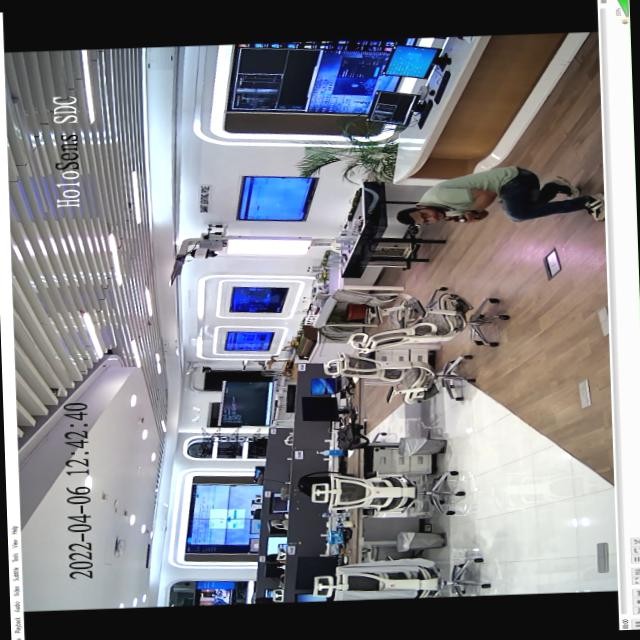long weapon: (443, 210, 483, 222)
